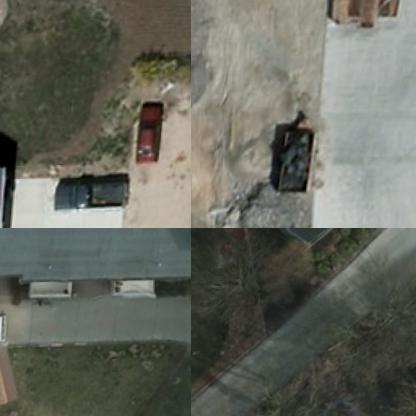car: (142, 104, 170, 168)
pickup: (59, 180, 136, 214)
